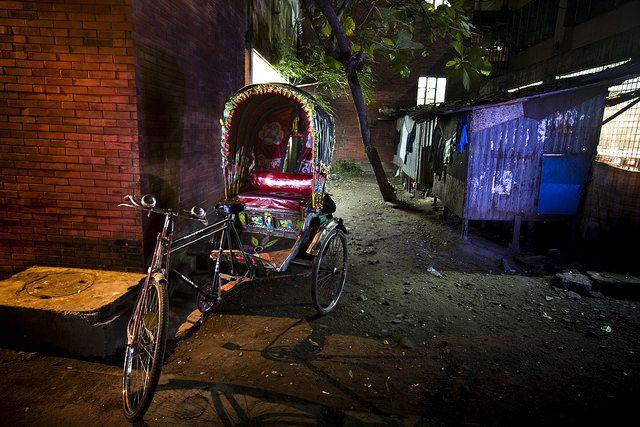Rickshaw: (123, 83, 346, 420)
